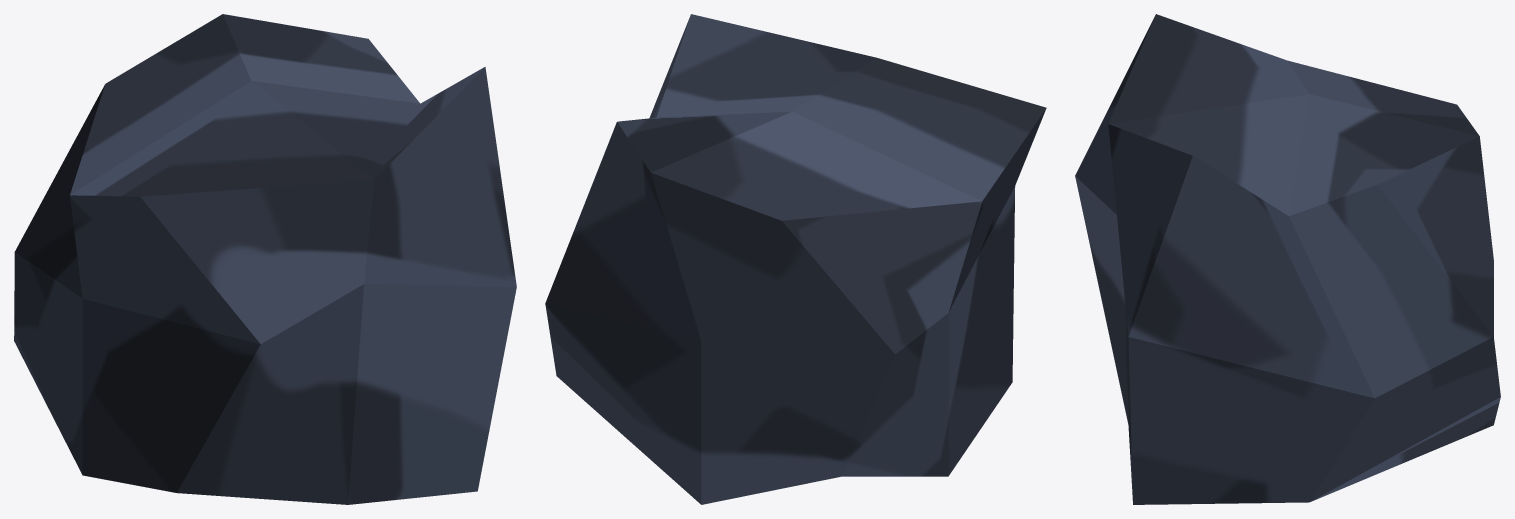
Rendered from ROCK 2glb.glb.
3 views of the same model, side by side, from view 1: azimuth 30°, elevation 25°; view 2: azimuth 150°, elevation 25°; view 3: azimuth 270°, elevation 25° (orthographic). The views are drawn at different scales.
Parts seen in each view (by area): view 1: Cube; view 2: Cube; view 3: Cube.
Part boxes in pixels (<box>): Cube: <box>14,14,516,504</box>; Cube: <box>545,14,1046,504</box>; Cube: <box>1075,14,1500,504</box>.
Bounding box in the file's own units: 2.32 × 2.22 × 2.33.
1 material, 1 textured.
